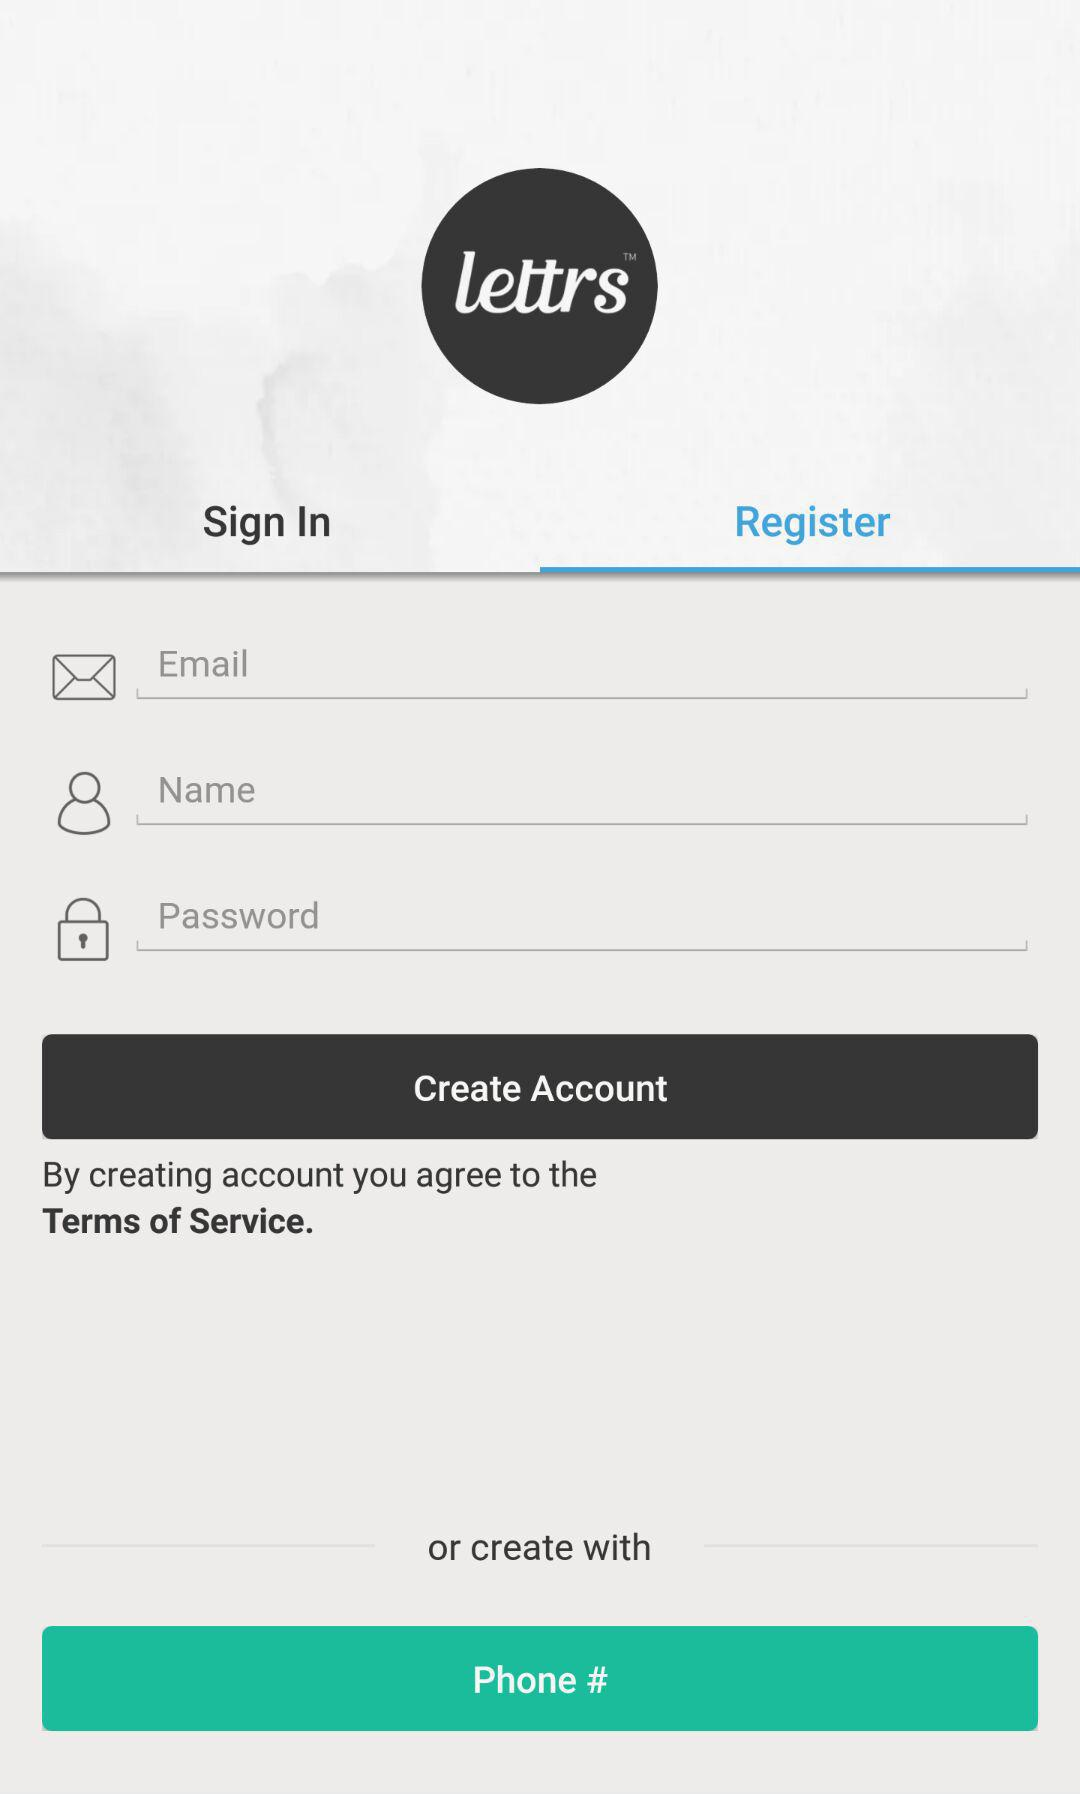EditText: (136, 900, 1029, 952), (136, 648, 1029, 700), (136, 777, 1029, 827)
Icon: (58, 897, 111, 962), (58, 771, 111, 835), (53, 654, 117, 702)
Image: (421, 168, 659, 406)
Multi_Tab: (1, 473, 1080, 575)
Text: (42, 1158, 598, 1235), (428, 1531, 651, 1562), (735, 504, 890, 547), (202, 505, 331, 547), (160, 901, 318, 932), (160, 648, 249, 678), (160, 777, 256, 803)
TextButton: (42, 1625, 1039, 1732), (42, 1034, 1038, 1140)
